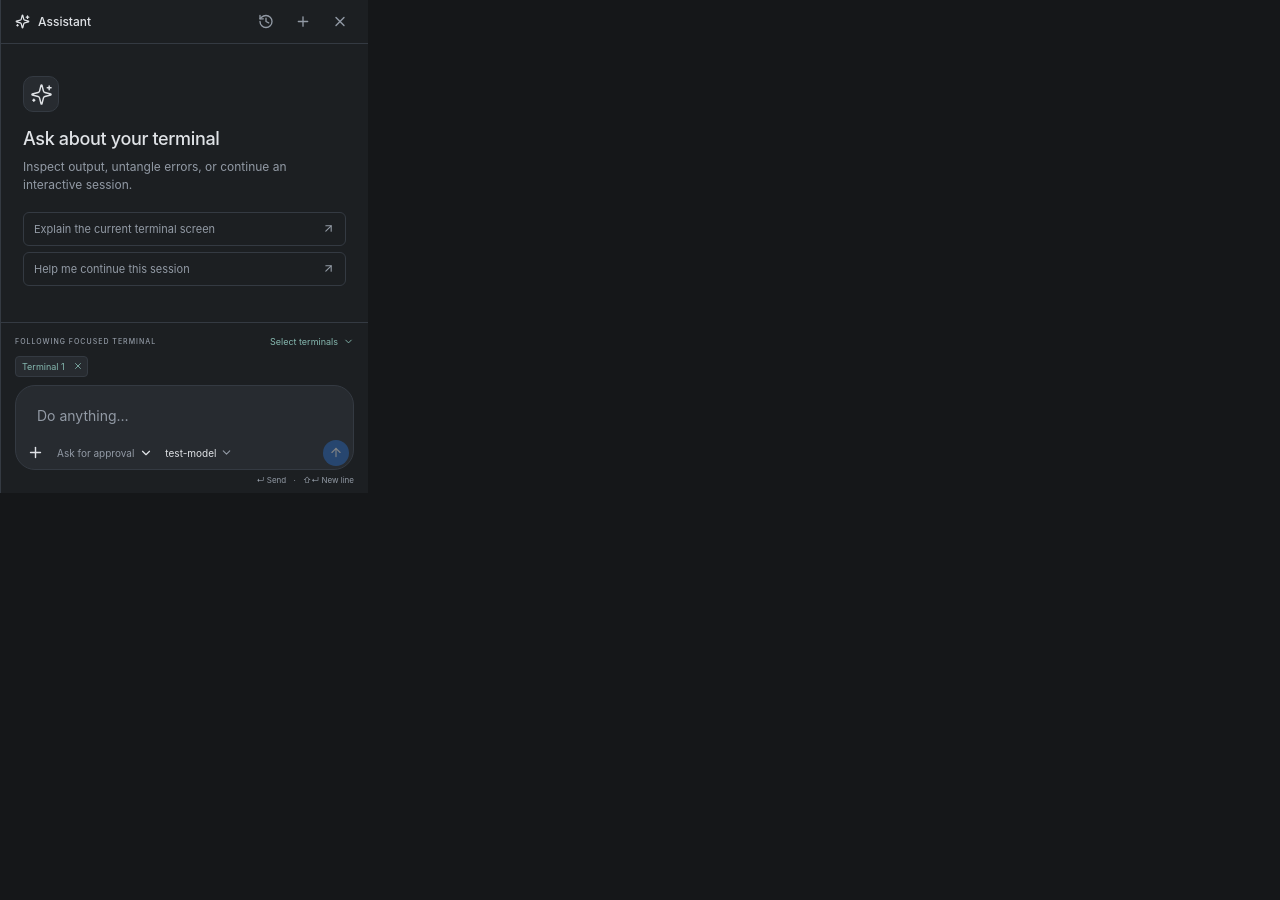
disables reasoning selection after automatic compatibility detection
Click the button with aria-label "Model and reasoning settings" at [199, 452], box x1=163 y1=443 x2=235 y2=462
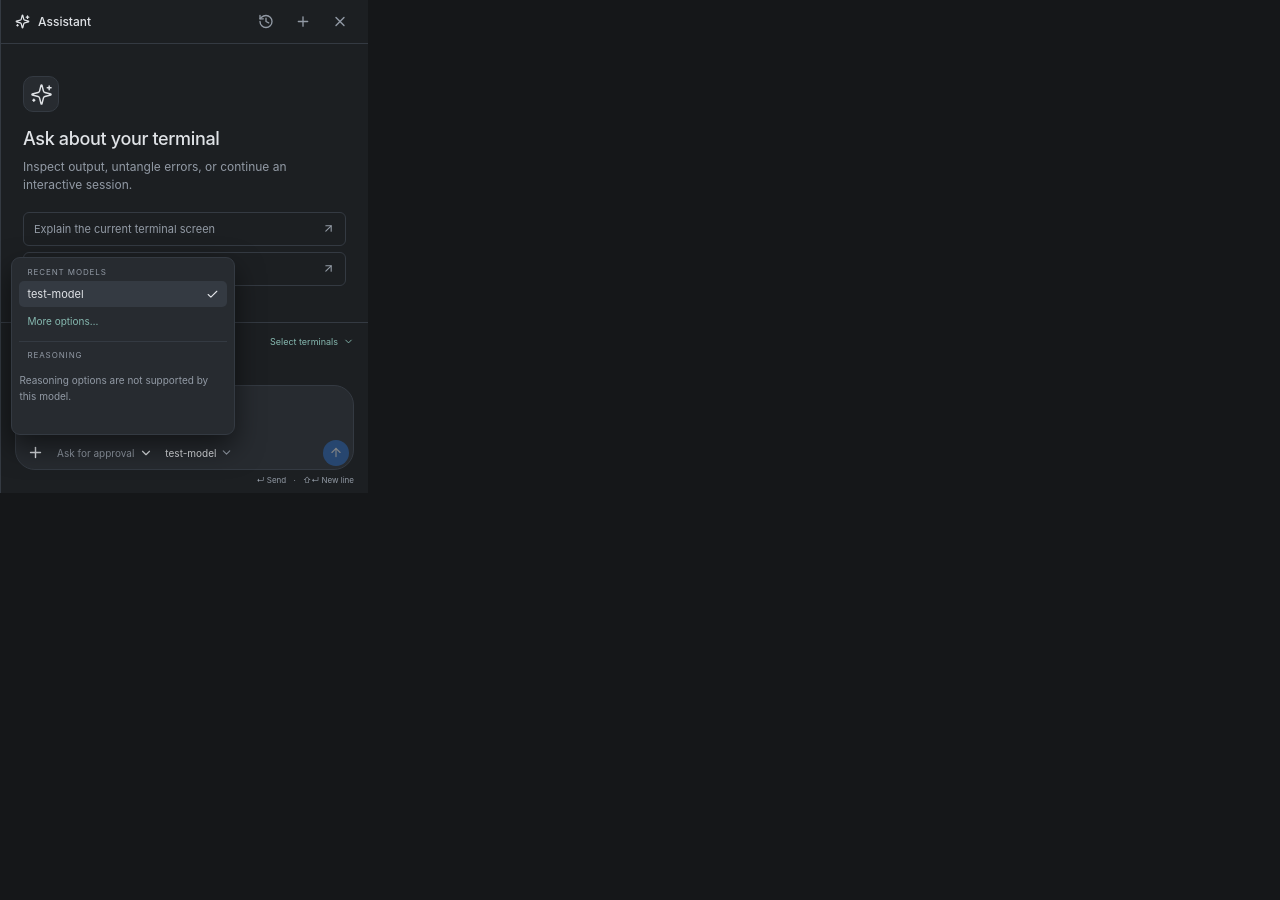
Expected: the text "Reasoning options are not supported by this model." is shown, x1=19 y1=372 x2=227 y2=404
